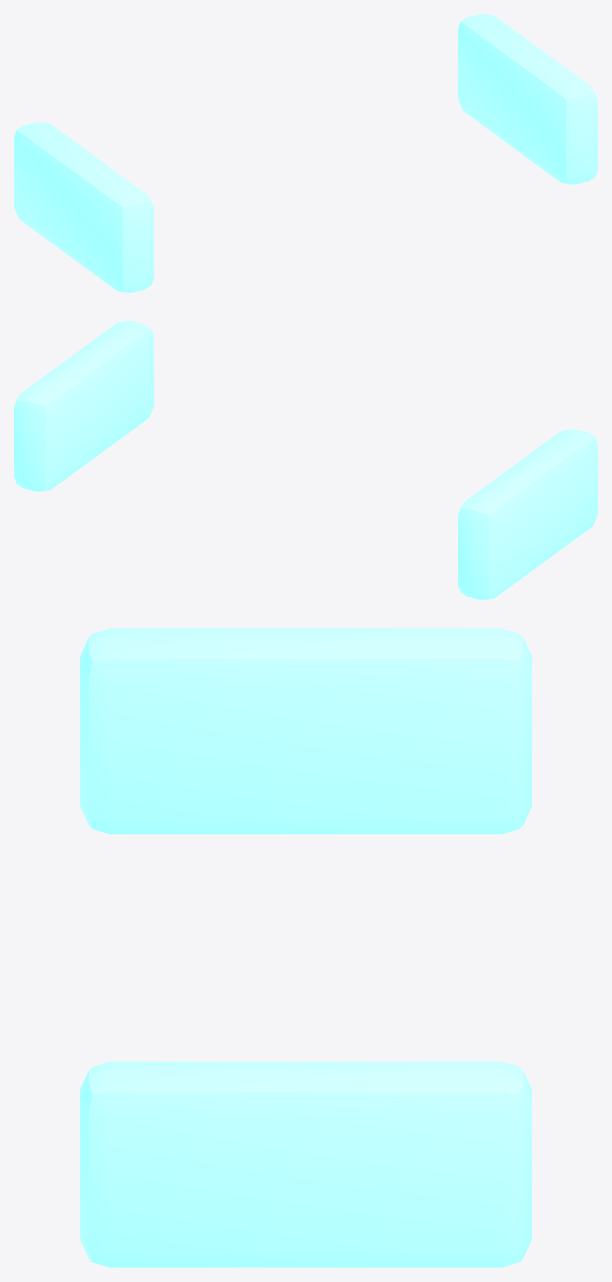
The model's file is multitool_light_laser.glb.
3 views of the same model, one above another, from view 1: azimuth 30°, elevation 25°; view 2: azimuth 150°, elevation 25°; view 3: azimuth 270°, elevation 25° (orthographic). The views are drawn at different scales.
Parts seen in each view (by area): view 1: multitool_light_laser; view 2: multitool_light_laser; view 3: multitool_light_laser.
Part boxes in pixels (left/top/right/bottom): multitool_light_laser: left=14, top=14, right=597, bottom=292; multitool_light_laser: left=14, top=321, right=597, bottom=599; multitool_light_laser: left=80, top=628, right=531, bottom=1267.
Size of the model in its own units: 0.074 by 0.014 by 0.03.
